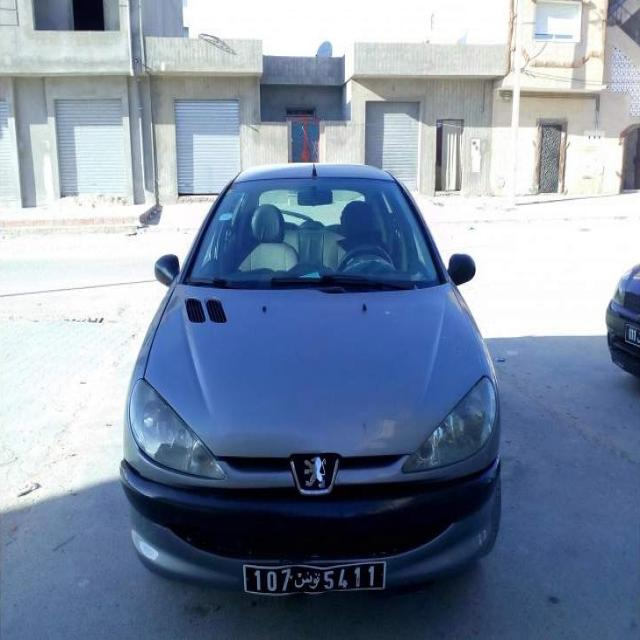licence plate: (246, 563, 384, 590)
